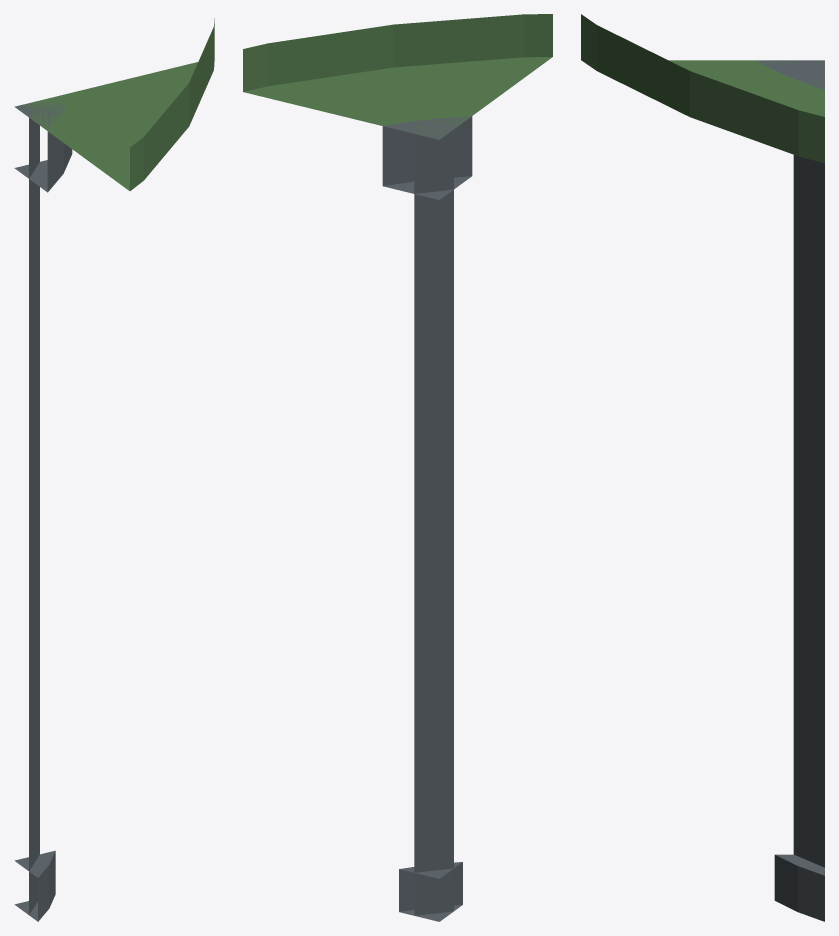
The model's file is cell_28.obj.
3 views of the same model, side by side, from view 1: azimuth 30°, elevation 25°; view 2: azimuth 150°, elevation 25°; view 3: azimuth 270°, elevation 25° (orthographic). The views are drawn at different scales.
Bounding box in the file's own units: 0.2393 × 0.96 × 0.2393.
